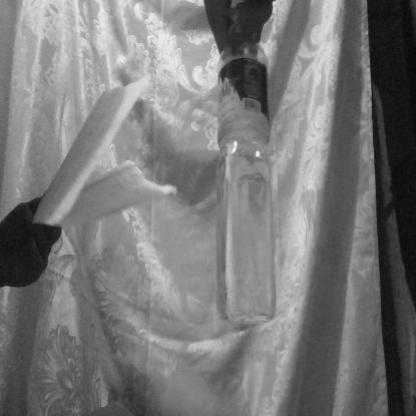Plastic Bottle: (205, 5, 294, 364)
